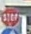stop: (1, 6, 20, 26)
